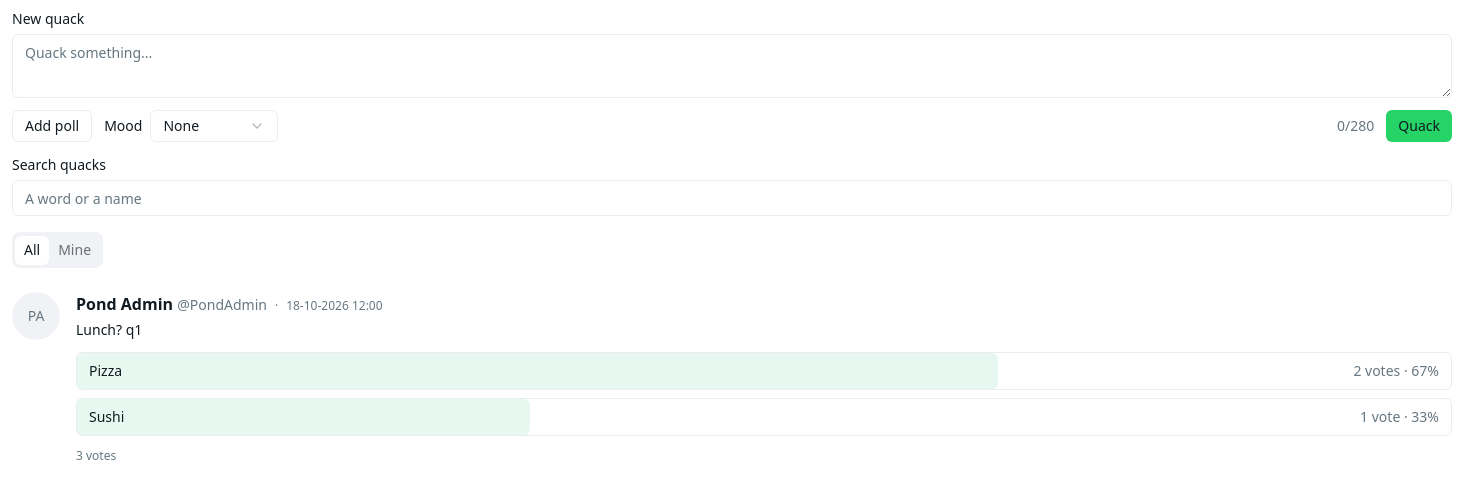
Test: voting › lets the last of quick clicks win, on the server and on screen (D3)
Expected: the button "Pizza 2 votes · 67%" is shown, [76, 352, 1452, 390]
Click the button "Sushi 1 vote · 33%". click: (304, 417)
box: [76, 398, 1452, 436]
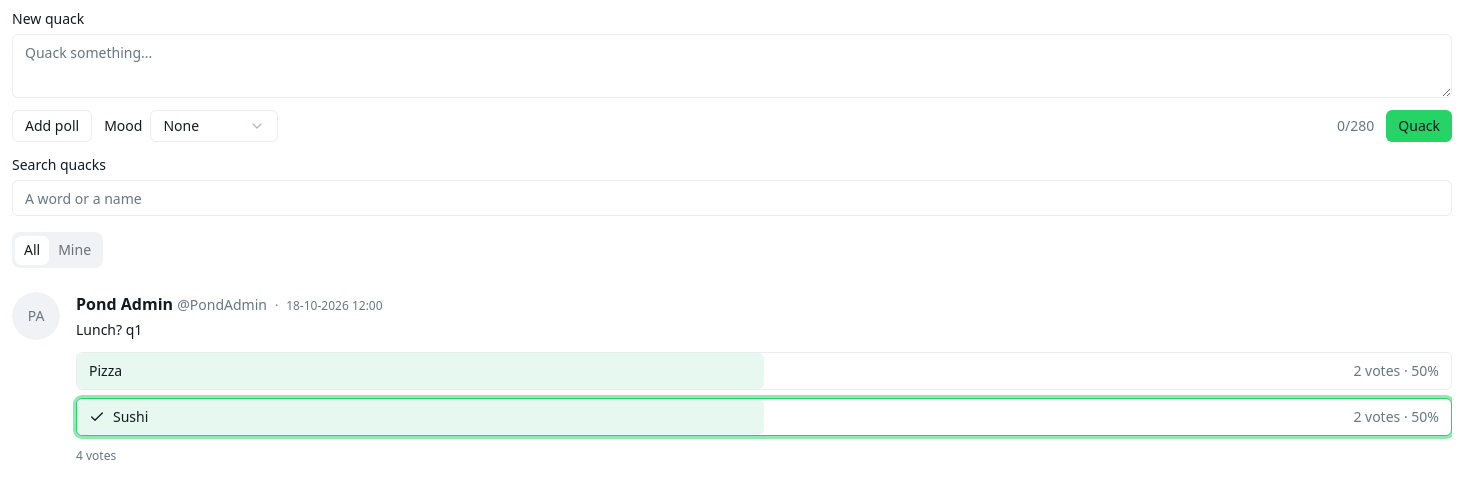
Click the button "Pizza 2 votes · 50%". click: (764, 371)
box: [76, 352, 1452, 390]
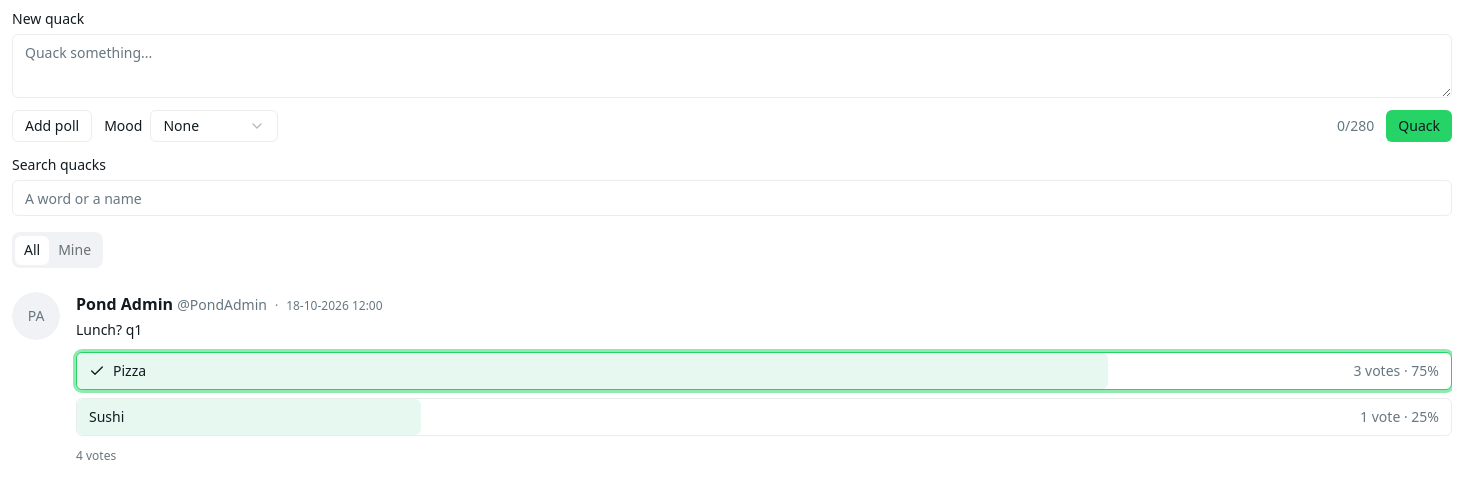
Expected: the button "Pizza 3 votes · 75%" is shown, [76, 352, 1452, 390]
Expected: the button "Sushi 1 vote · 25%" is shown, [76, 398, 1452, 436]
